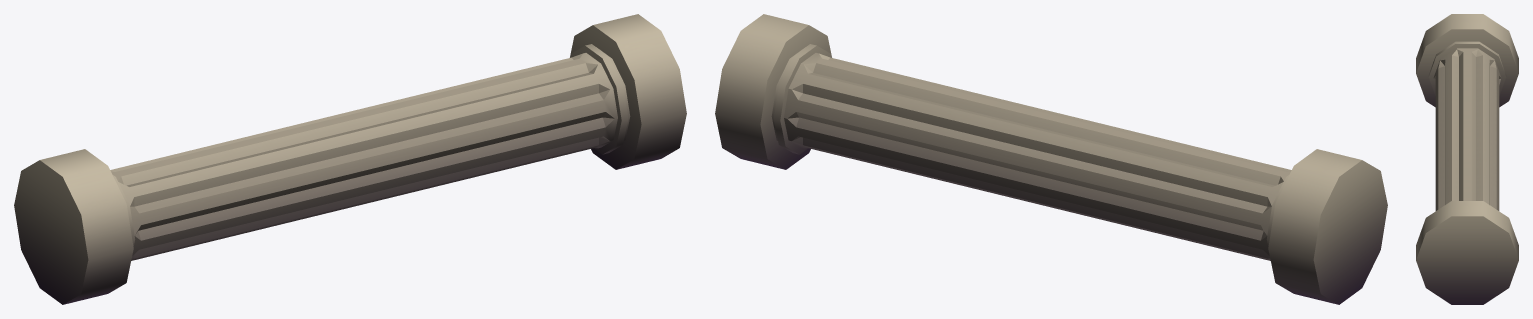
Rendered from Obstaculo_ColumnaHorizontal.fbx.
The picture shows the model from 3 angles, left to right: view 1: azimuth 30°, elevation 25°; view 2: azimuth 150°, elevation 25°; view 3: azimuth 270°, elevation 25°; orthographic projection. The views are drawn at different scales.
Parts seen in each view (by area): view 1: Columna.001; view 2: Columna.001; view 3: Columna.001.
Part boxes in pixels (x1,y1,x2,y2): Columna.001: [14, 14, 686, 304]; Columna.001: [715, 14, 1387, 304]; Columna.001: [1416, 14, 1518, 304].
Size of the model in its own units: 1420 by 291 by 305.
